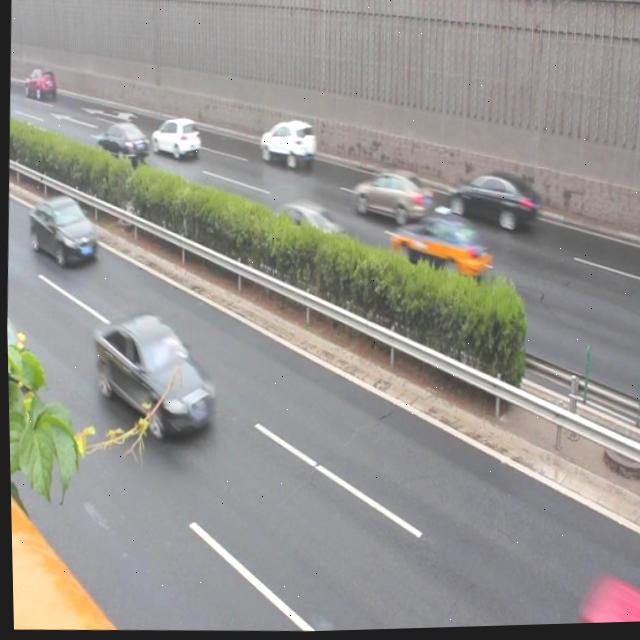car: (92, 311, 215, 443), (387, 212, 489, 292), (442, 163, 539, 239), (5, 302, 46, 449), (24, 193, 99, 269), (348, 167, 435, 229), (266, 196, 344, 259), (256, 115, 317, 169), (94, 114, 150, 168), (152, 113, 200, 162)
